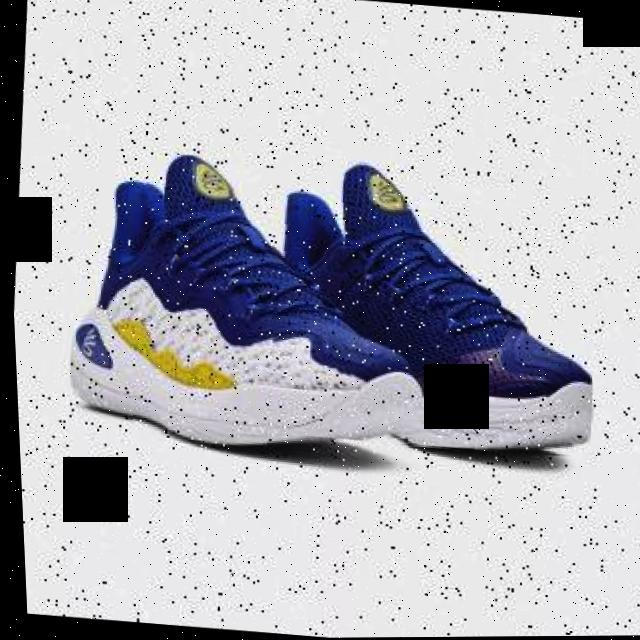shoe: (53, 144, 432, 467), (247, 153, 609, 461)
